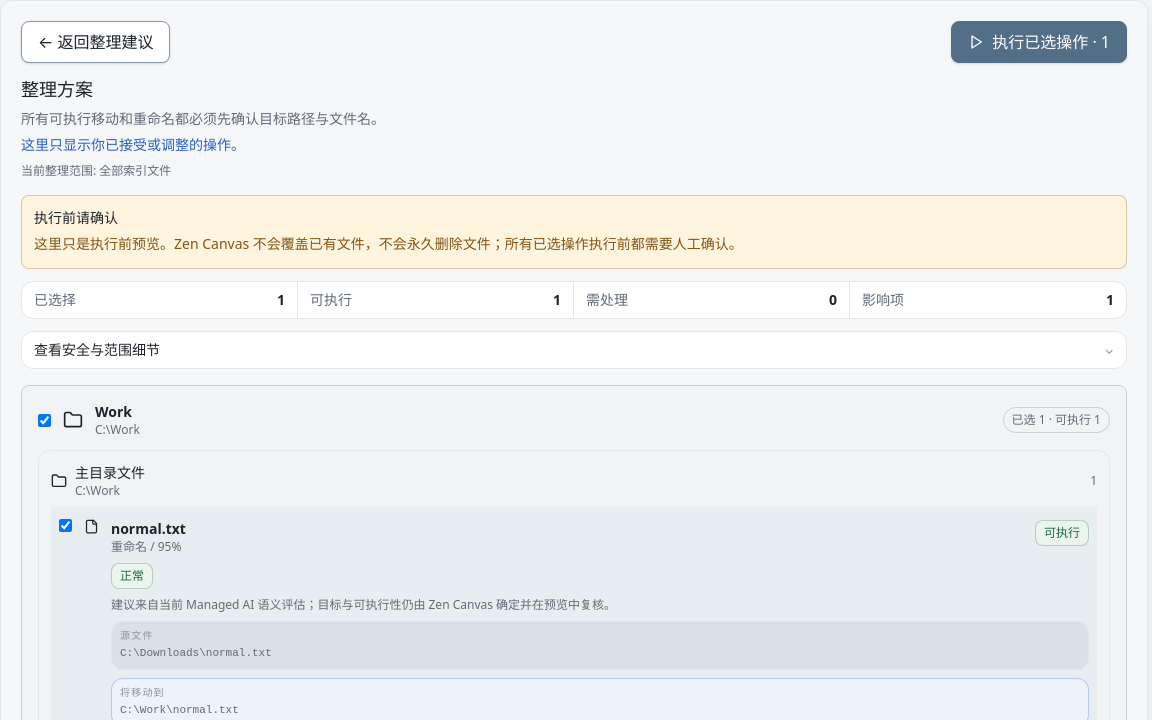
it: organize v4.2.1 component interactions › renders the default confirmation with real dialog semantics
The width and height of the screenshot is (1152, 720).
Click the button "执行已选操作 · 1". click: (1039, 42)
box: left=951, top=21, right=1127, bottom=63
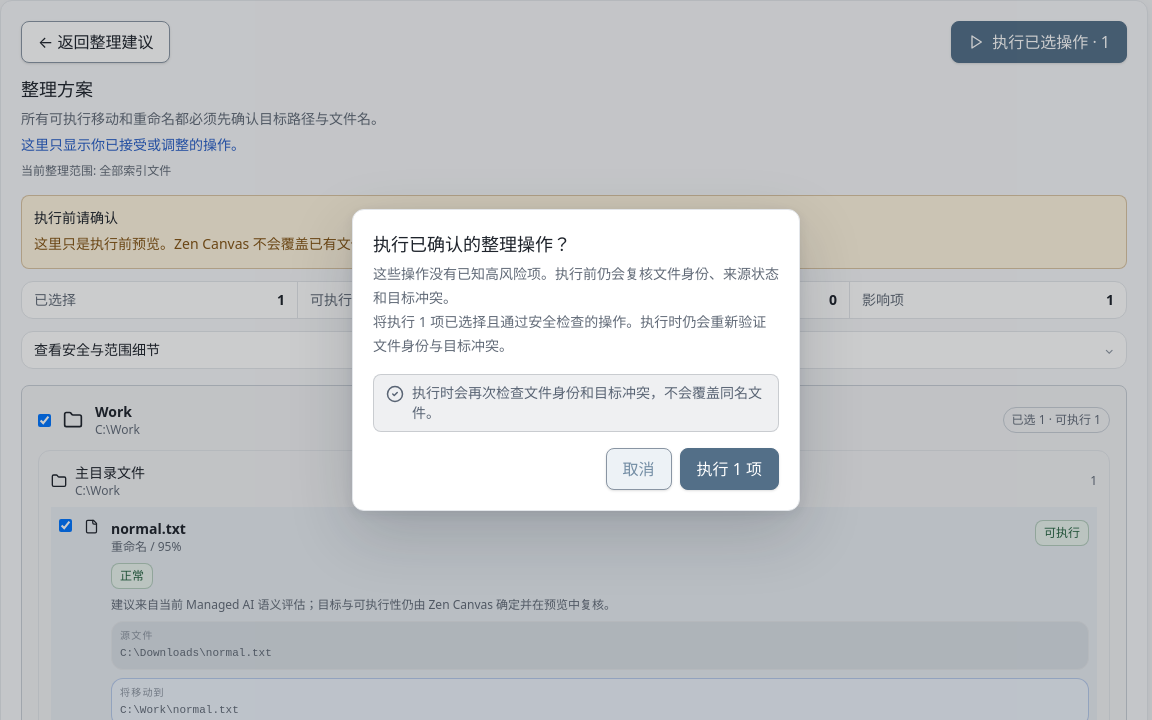
Expected: the dialog shows "执行已确认的整理操作", left=373, top=232, right=571, bottom=256
Expected: the dialog shows "1", left=373, top=264, right=779, bottom=355
